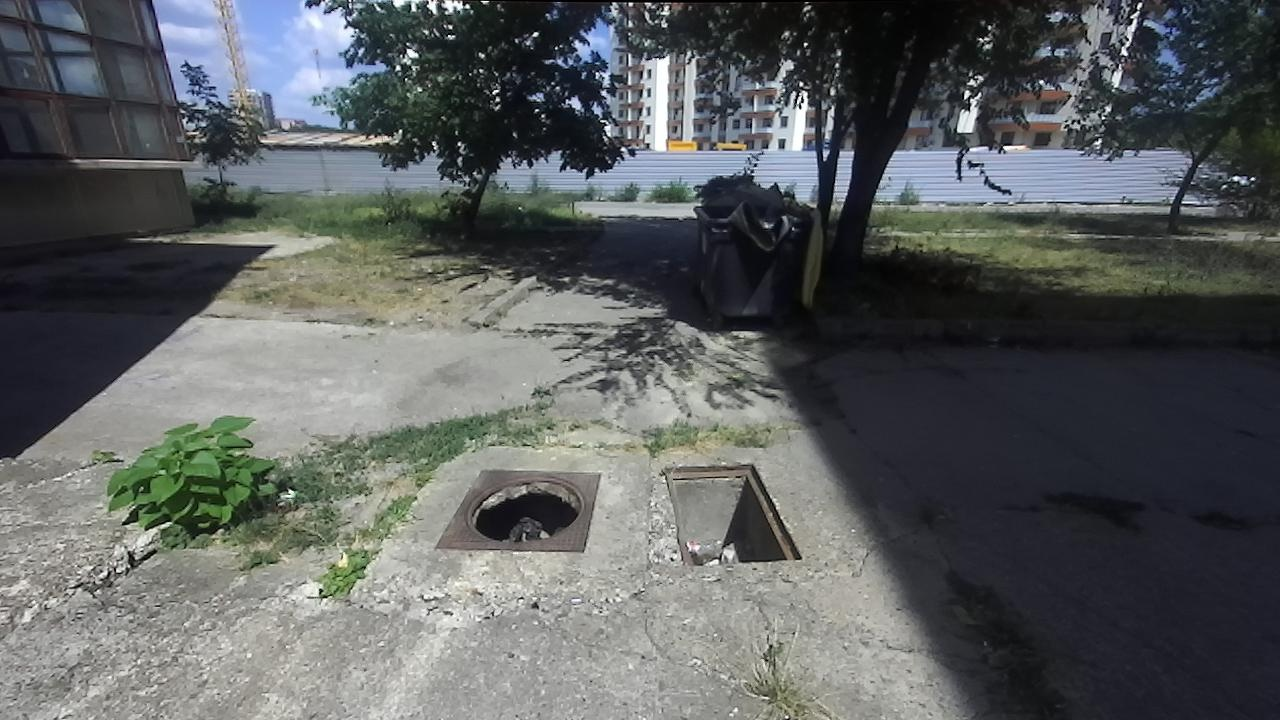drain: (660, 459, 802, 572), (458, 470, 588, 545)
